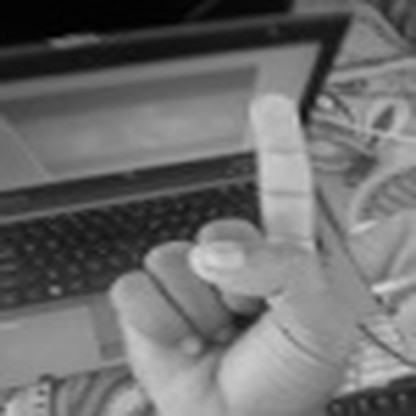d: (103, 88, 325, 416)
